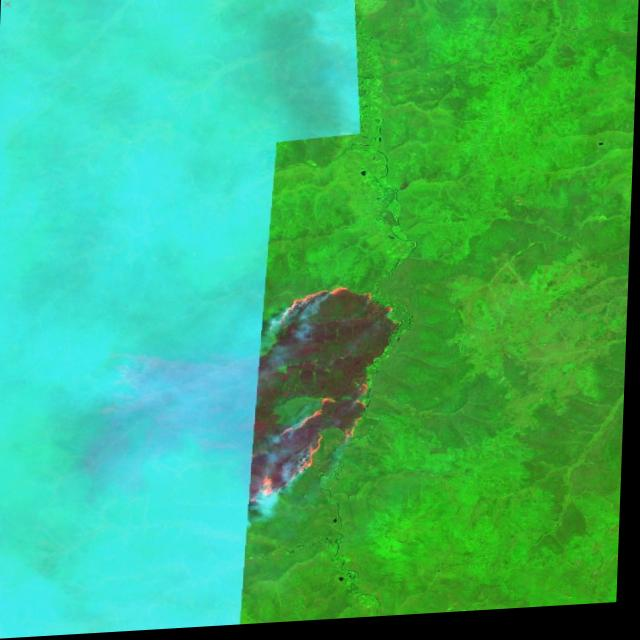fire: (251, 283, 409, 511)
